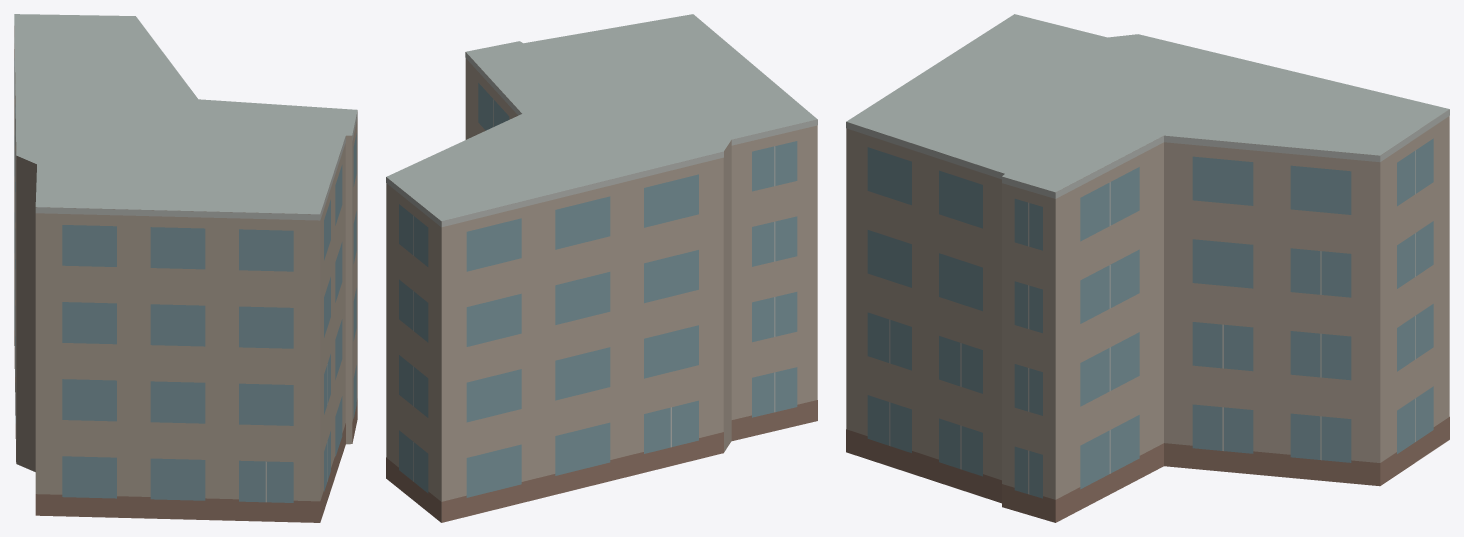
The model's file is survey-upis-32673623.glb.
The picture shows the model from 3 angles, left to right: view 1: azimuth 30°, elevation 25°; view 2: azimuth 150°, elevation 25°; view 3: azimuth 270°, elevation 25°; orthographic projection. The views are drawn at different scales.
Visible parts, largest first — view 1: survey-upis-32673623.tmp; view 2: survey-upis-32673623.tmp; view 3: survey-upis-32673623.tmp.
Boxes of the visible parts, x1,y1,x2,y2 form: survey-upis-32673623.tmp: (14, 14, 357, 522); survey-upis-32673623.tmp: (386, 14, 817, 522); survey-upis-32673623.tmp: (846, 14, 1449, 522).
Size of the model in its own units: 14.13 by 12.2 by 20.2.
